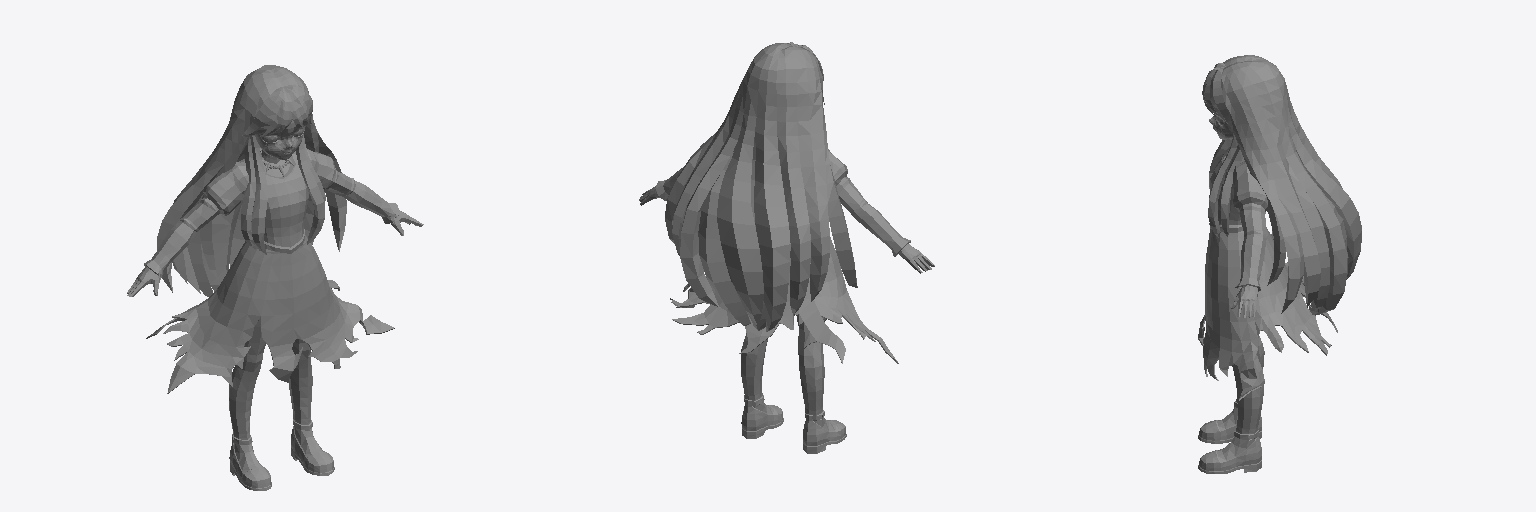
File: man.obj
3 renders of one model, left to right at view 1: azimuth 30°, elevation 25°; view 2: azimuth 150°, elevation 25°; view 3: azimuth 270°, elevation 25°, orthographic.
Visible parts, largest first — view 1: yanglintaobao888_19; view 2: yanglintaobao888_19; view 3: yanglintaobao888_19.
Boxes of the visible parts, <box> form: yanglintaobao888_19: <box>127,65,423,490</box>; yanglintaobao888_19: <box>639,42,934,453</box>; yanglintaobao888_19: <box>1198,55,1361,473</box>.
Size of the model in its own units: 12.82 by 16.37 by 6.22.